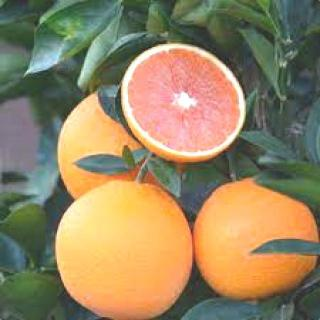orange: (52, 173, 216, 320), (168, 159, 314, 320), (110, 37, 248, 182)
